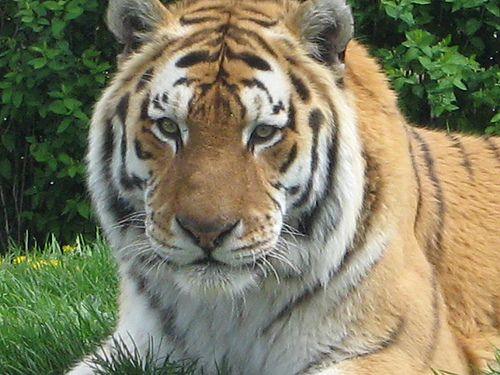Tigre: (69, 3, 495, 363)
